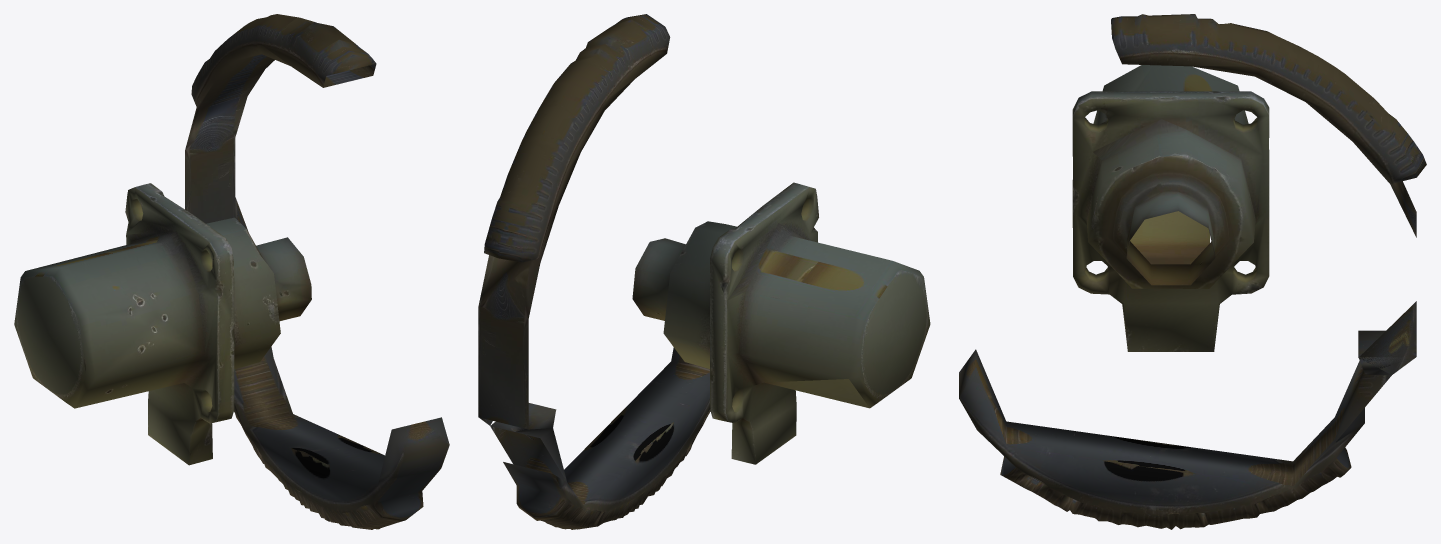
The model's file is trimwheel.glb.
The picture shows the model from 3 angles, left to right: view 1: azimuth 30°, elevation 25°; view 2: azimuth 150°, elevation 25°; view 3: azimuth 270°, elevation 25°; orthographic projection. The views are drawn at different scales.
Parts seen in each view (by area): view 1: tripo_node_008ce9b4-87fa-46de-b7b6-10154; view 2: tripo_node_008ce9b4-87fa-46de-b7b6-10154; view 3: tripo_node_008ce9b4-87fa-46de-b7b6-10154.
Boxes of the visible parts, x1,y1,x2,y2 form: tripo_node_008ce9b4-87fa-46de-b7b6-10154: (14,14,449,529); tripo_node_008ce9b4-87fa-46de-b7b6-10154: (478,14,930,529); tripo_node_008ce9b4-87fa-46de-b7b6-10154: (959,14,1426,529).
Bounding box in the file's own units: 0.6576 × 0.9857 × 0.8141.
Materials: 1 (1 with a texture image).
